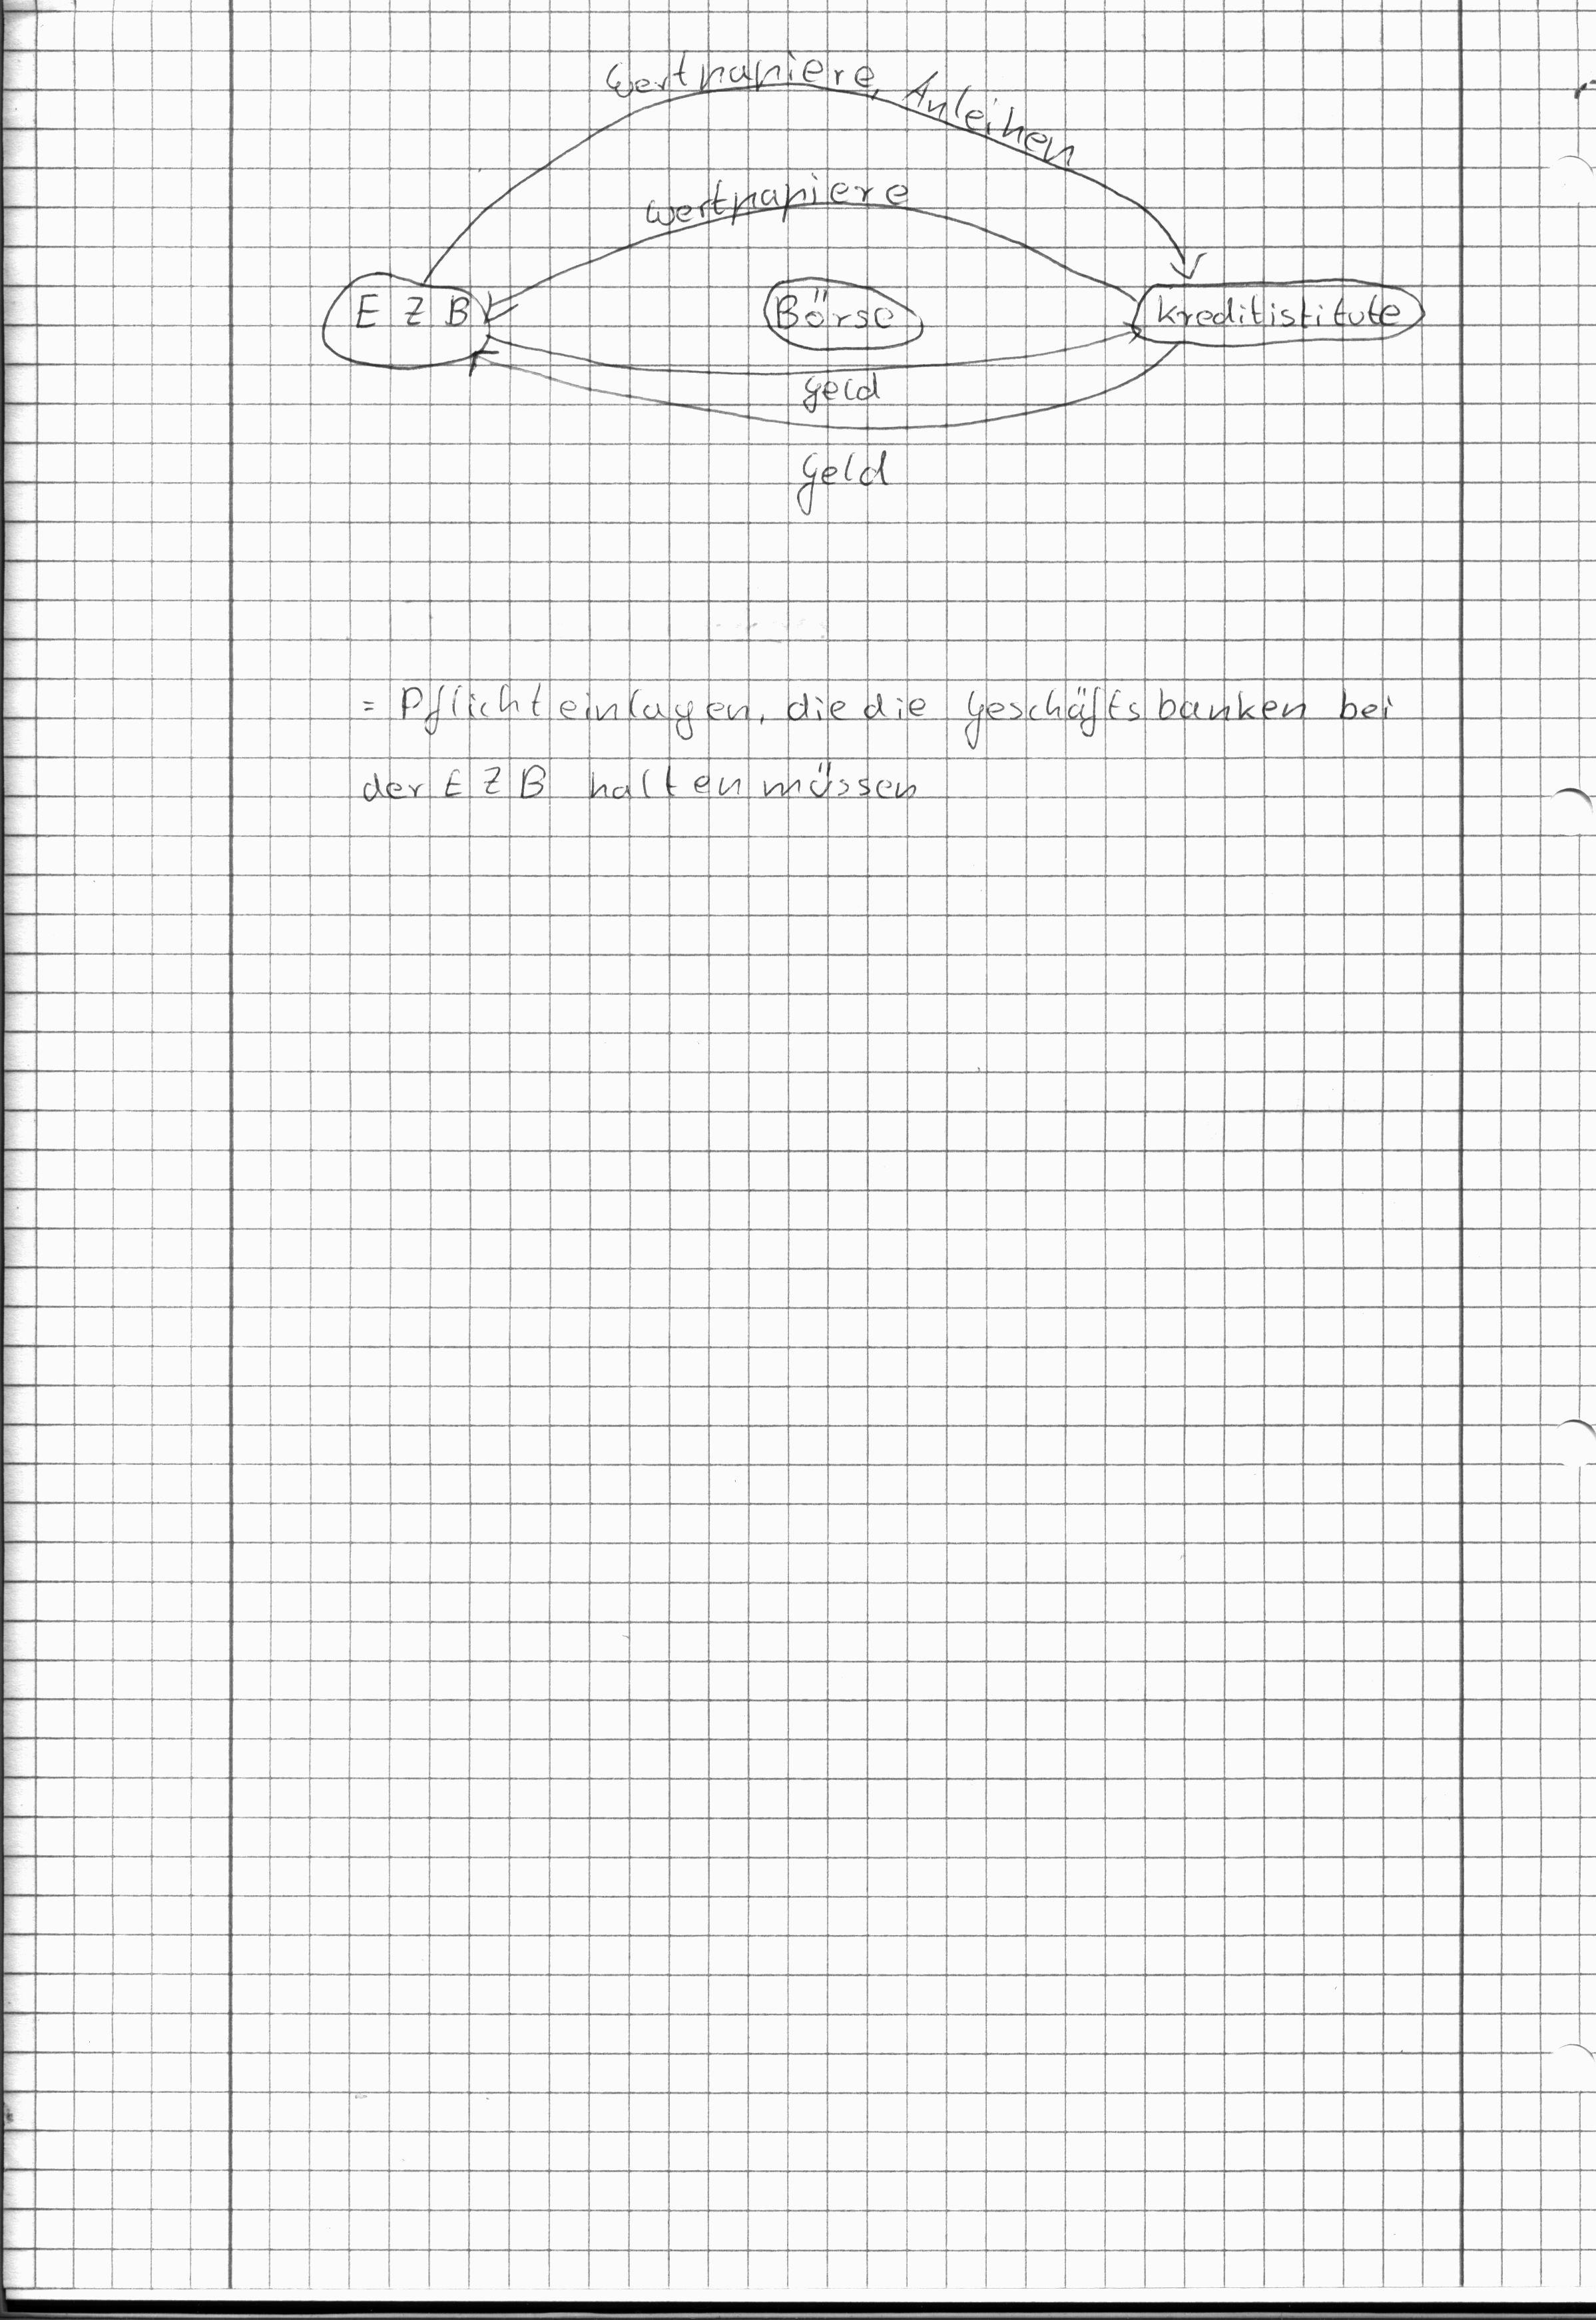word: (347, 669, 1401, 818), (1140, 271, 1422, 346), (766, 274, 912, 350), (336, 274, 481, 345), (782, 441, 903, 522), (794, 366, 892, 418)
